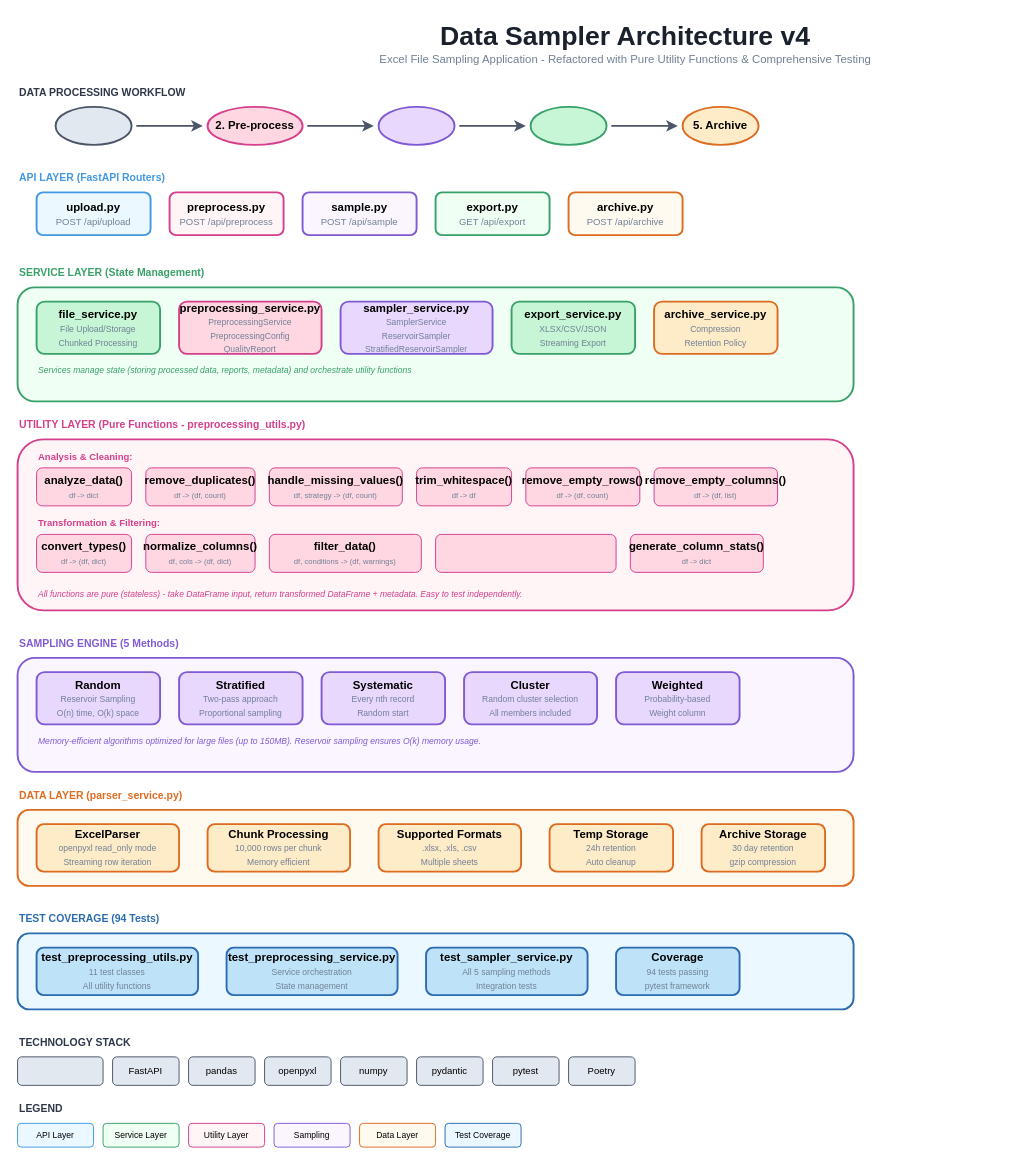
This 1021x1164 diagram has some shape labels left out. Here are the shapes that lost their labels. From the top down, the centre of each, then its label:
the point at 93,125: 1. Upload
the point at 416,125: 3. Sample
the point at 568,125: 4. Export
the point at 525,552: select_columns() df, keep, drop -> (df, dropped, warnings)
the point at 60,1070: Python 3.11+
